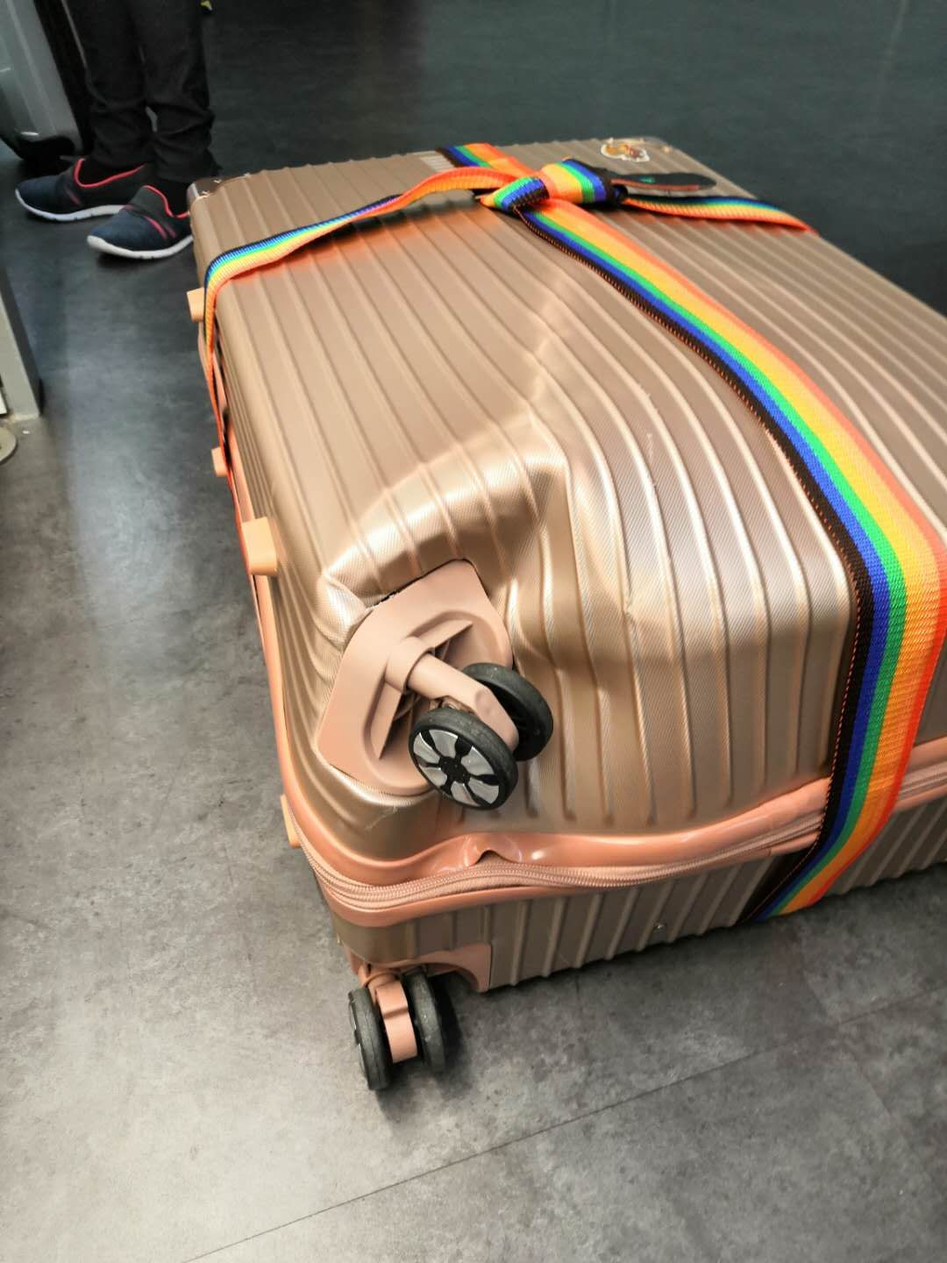rupture: (303, 411, 590, 645), (379, 743, 579, 860), (516, 645, 656, 715)
